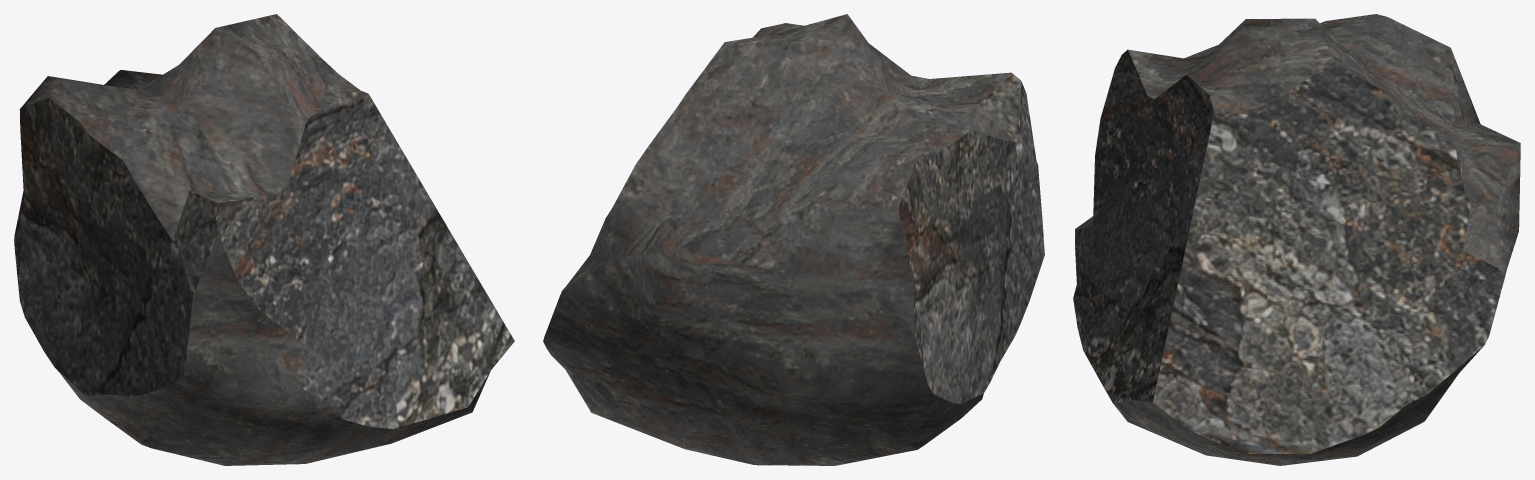
Rendered from SM_HarvestRock_Mined02.fbx.
3 views of the same model, side by side, from view 1: azimuth 30°, elevation 25°; view 2: azimuth 150°, elevation 25°; view 3: azimuth 270°, elevation 25° (orthographic). The views are drawn at different scales.
Parts seen in each view (by area): view 1: SM_HarvestRock_Mined02; view 2: SM_HarvestRock_Mined02; view 3: SM_HarvestRock_Mined02.
Boxes of the visible parts, <box> form: SM_HarvestRock_Mined02: <box>14,14,514,465</box>; SM_HarvestRock_Mined02: <box>543,14,1044,465</box>; SM_HarvestRock_Mined02: <box>1073,14,1520,465</box>.
Bounding box in the file's own units: 138 × 148 × 136.
